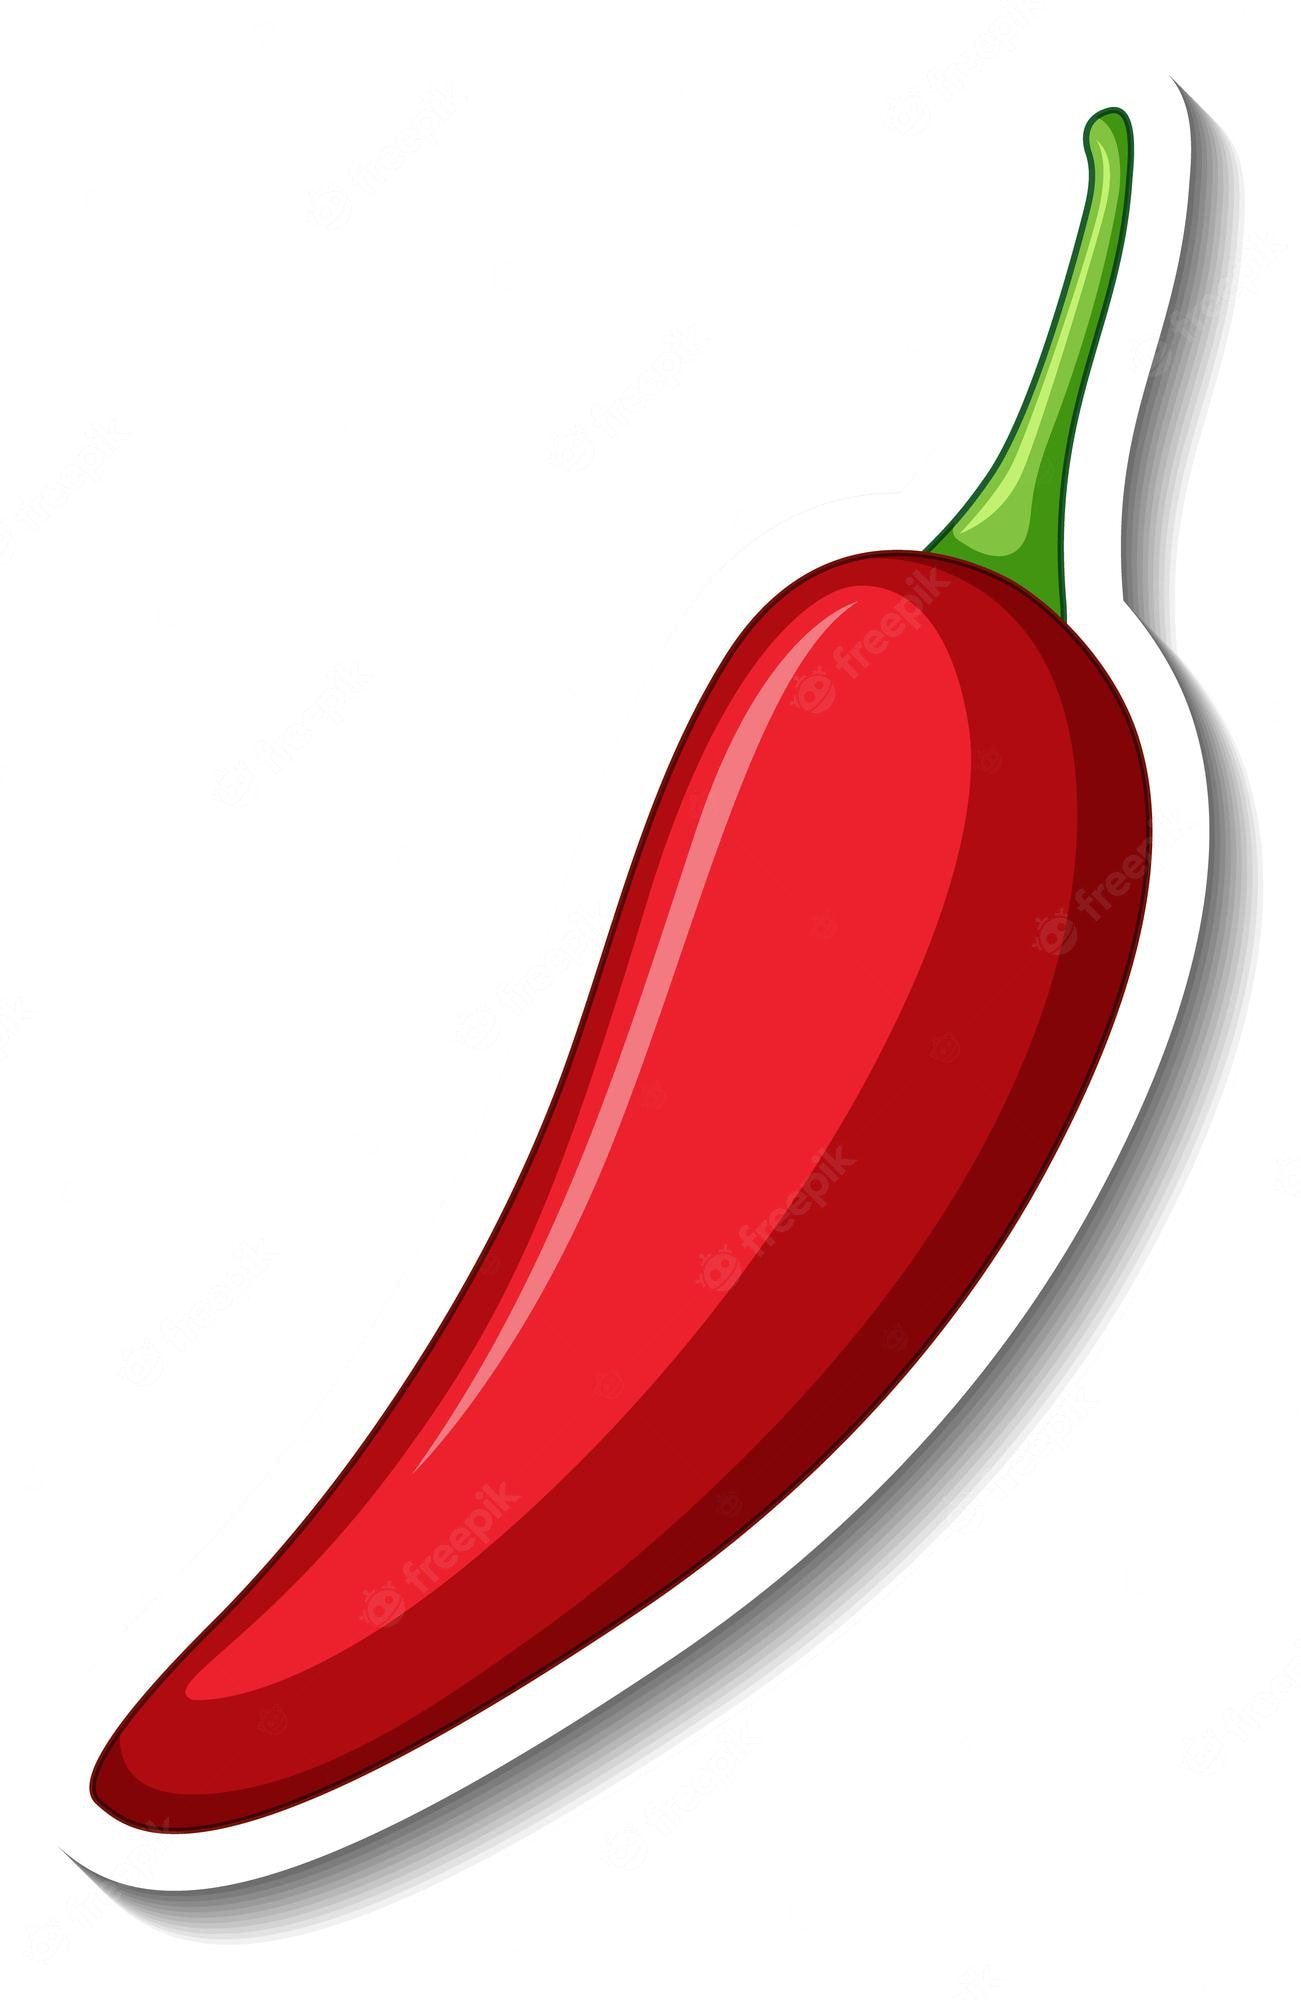Cabai: (146, 58, 1200, 1953)
